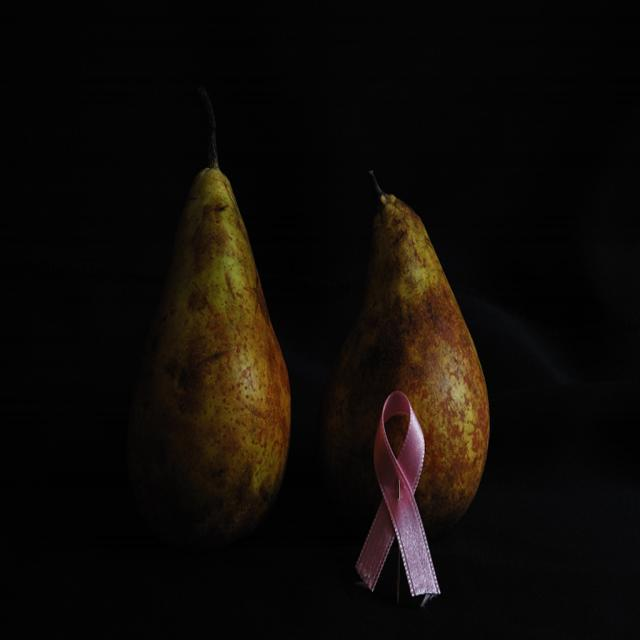Pear: (144, 97, 294, 547), (325, 159, 490, 529)
